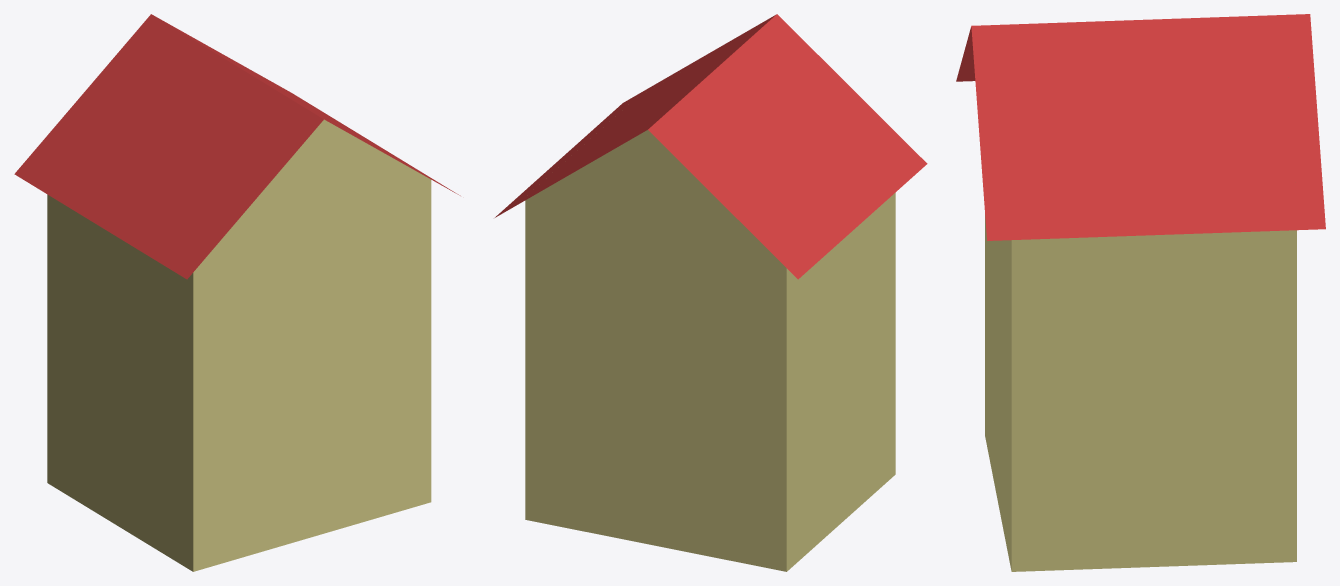
3 views of the same model, side by side, from view 1: azimuth 30°, elevation 25°; view 2: azimuth 150°, elevation 25°; view 3: azimuth 270°, elevation 25° (orthographic). The views are drawn at different scales.
Bounding box in the file's own units: 7.56 × 6.91 × 9.84.
